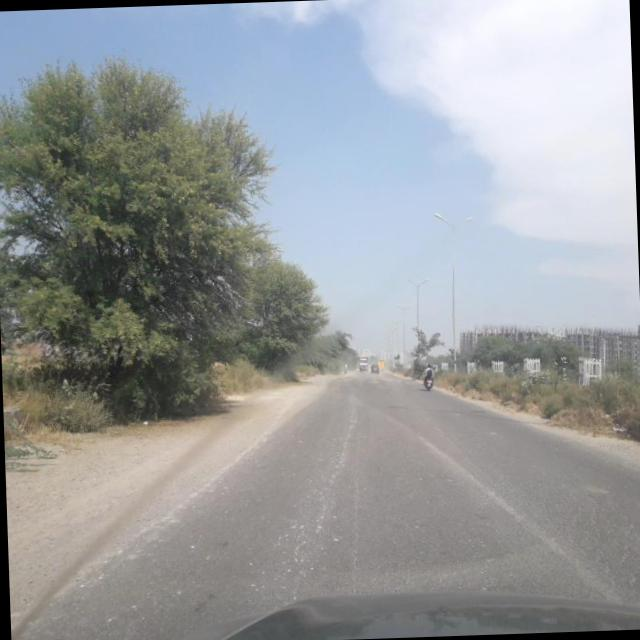crack: (457, 456, 640, 597)
pothole: (328, 416, 384, 586)
